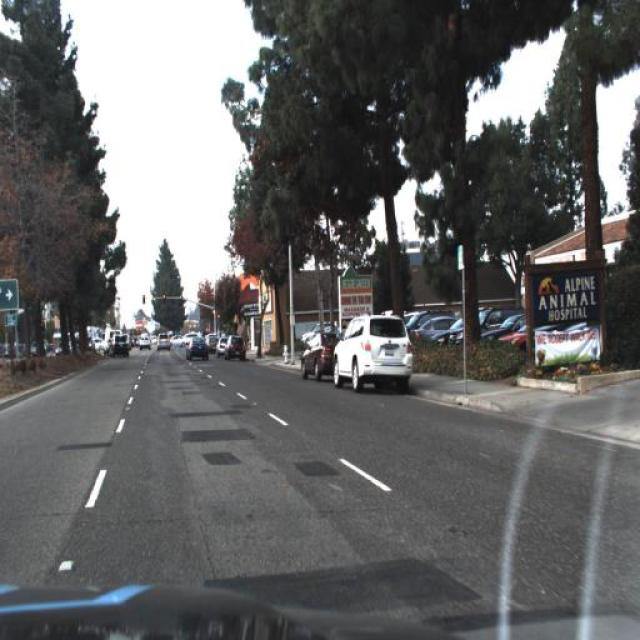car: (330, 308, 418, 396), (451, 299, 521, 345), (298, 326, 339, 384), (412, 313, 457, 346), (178, 332, 214, 363), (498, 321, 536, 350), (485, 316, 527, 342), (224, 331, 248, 367), (109, 332, 132, 362), (152, 328, 173, 356), (216, 328, 230, 363), (138, 335, 154, 349)
